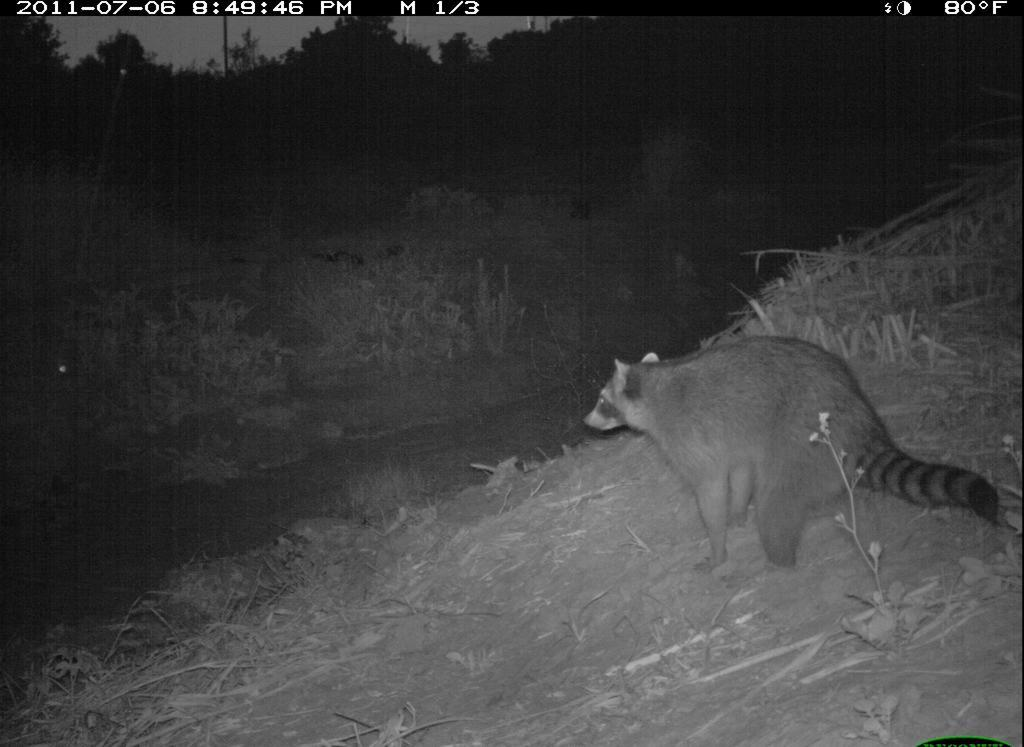raccoon: (571, 327, 1000, 587)
